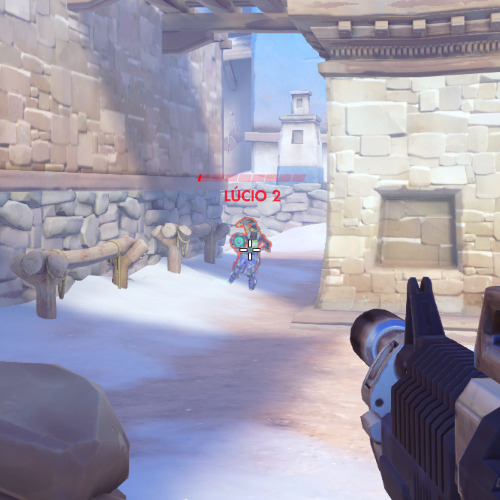hpbar: (197, 173, 307, 183)
